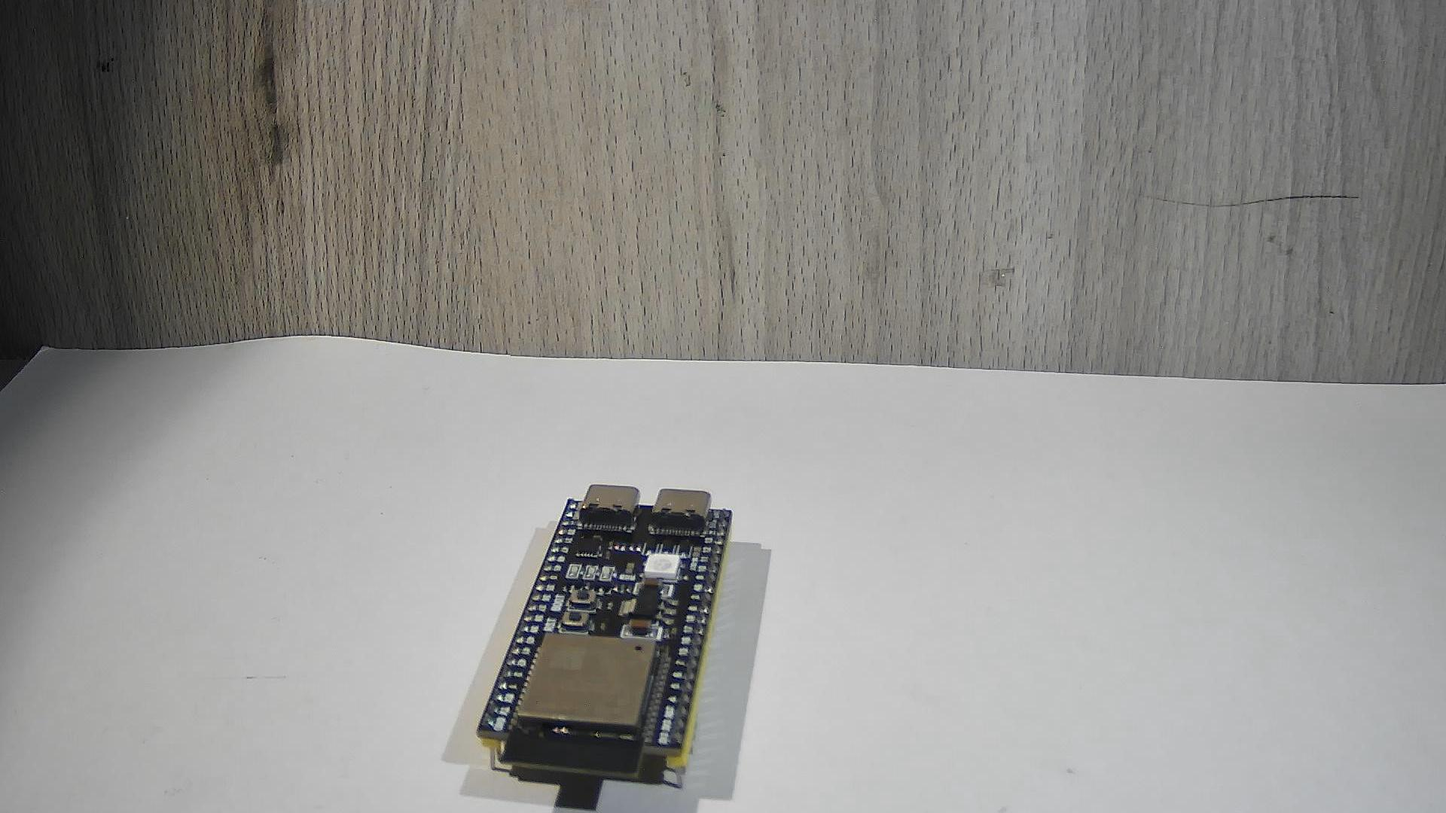ESP32: (459, 449, 798, 813)
